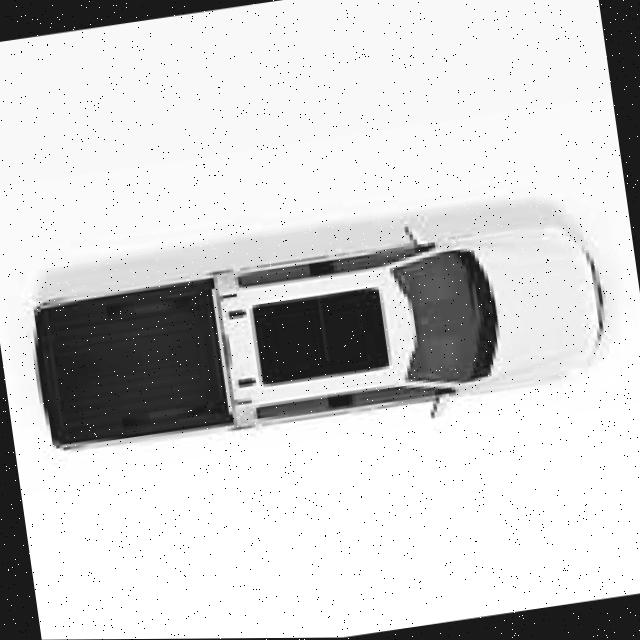truck: (27, 219, 612, 461)
